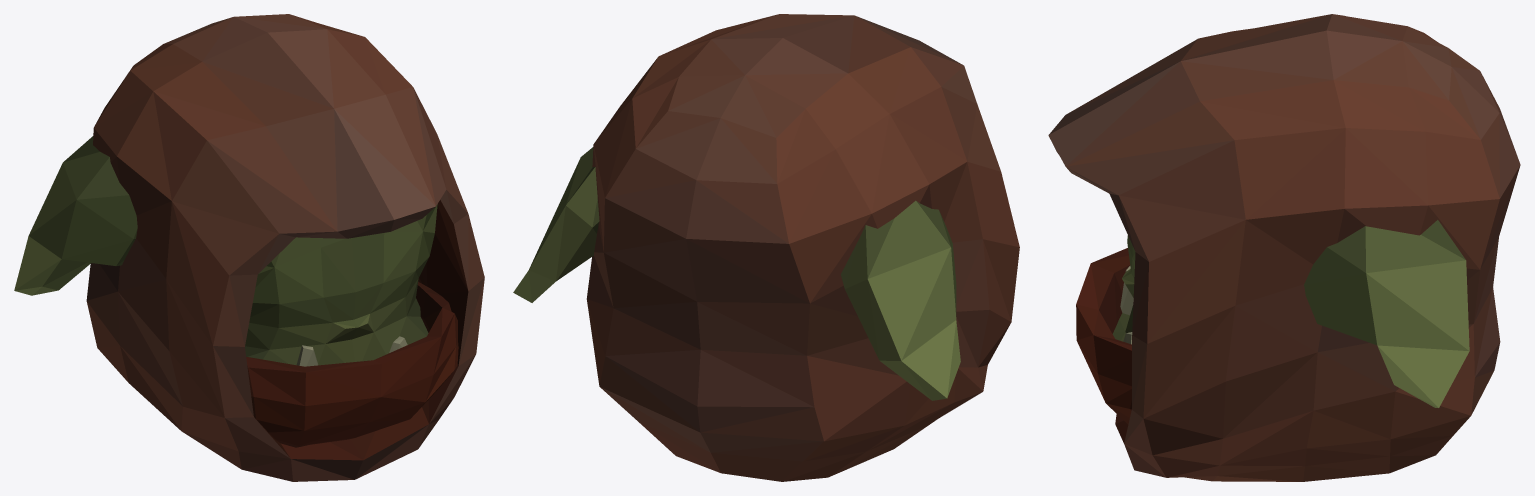
Rendered from Goblin_Green_Head_Helm.fbx.
3 renders of one model, left to right at view 1: azimuth 30°, elevation 25°; view 2: azimuth 150°, elevation 25°; view 3: azimuth 270°, elevation 25°, orthographic. The views are drawn at different scales.
Visible parts, largest first — view 1: Goblin_Green_Head_Helm; view 2: Goblin_Green_Head_Helm; view 3: Goblin_Green_Head_Helm.
Part boxes in pixels (bbox=[...]): Goblin_Green_Head_Helm: bbox=[14, 14, 484, 481]; Goblin_Green_Head_Helm: bbox=[513, 14, 1019, 481]; Goblin_Green_Head_Helm: bbox=[1048, 14, 1520, 481].
Bounding box in the file's own units: 1.39 × 1.3 × 1.29.
